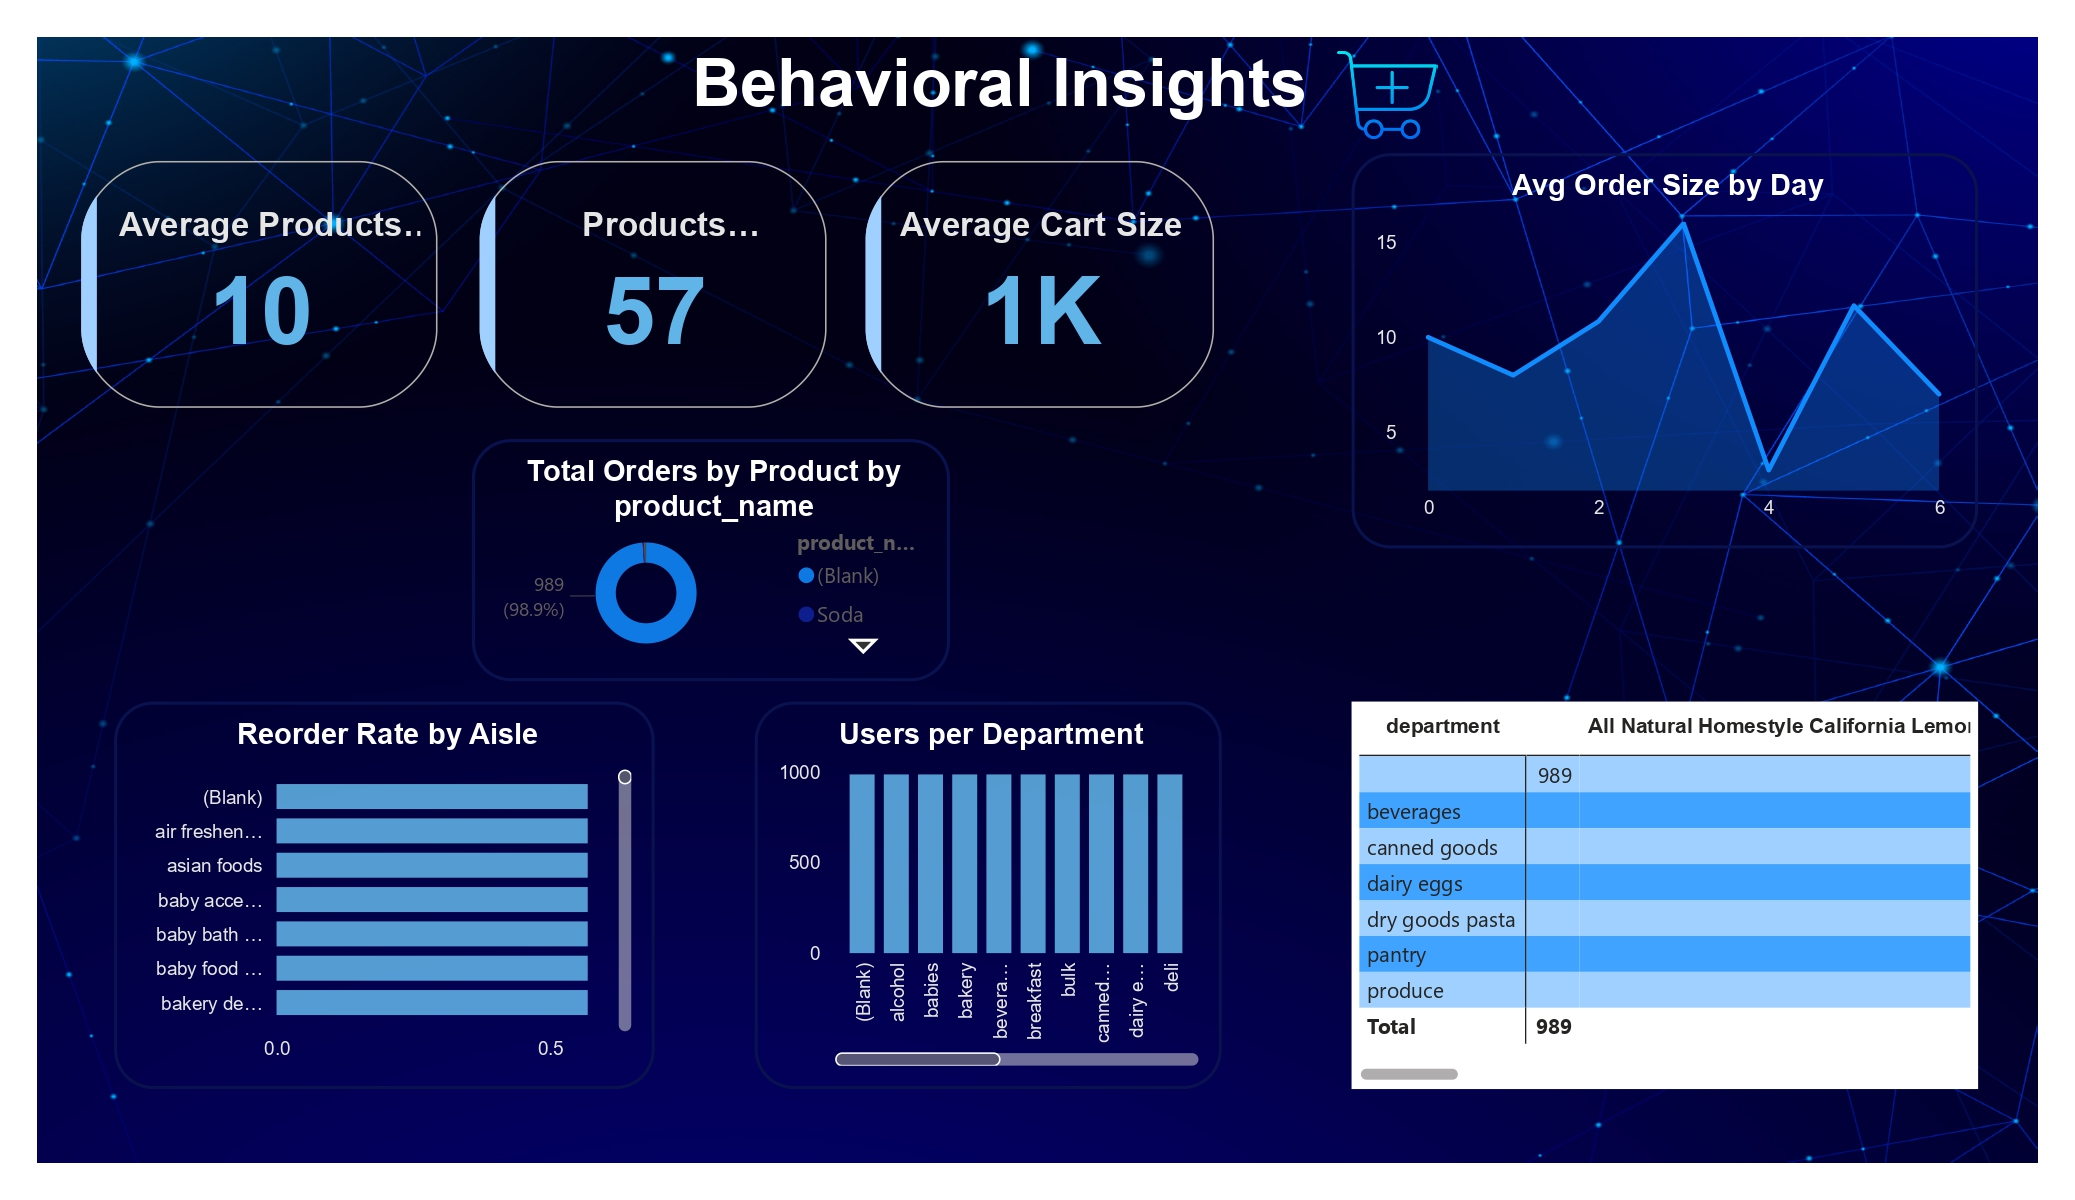

What the dashboard file says about the page in this screenshot:
{"tool":"powerbi","page":{"name":"Behavioral Insights","canvas":[1280,720],"ordinal":2},"visuals":[{"type":"donutChart","fields":{"Category":["Products.product_name"],"Y":["Order_Products_Train.Total Orders by Product"]},"box":[277.8,257,306.1,155],"z":0},{"type":"columnChart","title":"Users per Department ","fields":{"Y":["Orders.Users per Department"],"Category":["Departments.department"]},"box":[459.2,425.2,298.6,247.6],"z":1000},{"type":"pivotTable","fields":{"Rows":["Departments.department"],"Columns":["Products.product_name"],"Values":["CountNonNull(Order_Products_Train.reordered)"]},"box":[841,425.2,400.6,247.6],"z":2000},{"type":"barChart","title":"Reorder Rate by Aisle ","fields":{"Category":["Asiles.aisle"],"Y":["Order_Products_Train.Reorder Rate by Aisle"]},"box":[49.1,425.2,345.8,247.6],"z":3000},{"type":"cardVisual","fields":{"Data":["Order_Products_Train.Average Products per Order"]},"box":[22.7,73.7,238.1,168.2],"z":4000},{"type":"cardVisual","fields":{"Data":["Order_Products_Train.Products Reordered More Than Once"]},"box":[277.8,73.7,232.4,168.2],"z":5000},{"type":"cardVisual","fields":{"Data":["Order_Products_Train.Average Cart Size"]},"box":[525.4,73.7,232.4,168.2],"z":6000},{"type":"lineChart","title":"Avg Order Size by Day","fields":{"Y":["Order_Products_Train.Avg Order Size by Day"],"Category":["Orders.order_dow"]},"box":[841,73.7,400.6,253.2],"z":7000},{"type":"textbox","box":[413.9,0,427.1,60.5],"z":8000},{"type":"image","box":[744.6,0,238.1,73.7],"z":9000}]}

Visuals, with their boxes in screenshot pixels (x1, y1, x2, y2):
donutChart - Products.product_name x Order_Products_Train.Total Orders by Product: bbox=(472, 439, 950, 681)
"Users per Department " columnChart: bbox=(755, 702, 1222, 1089)
pivotTable - Departments.department x Products.product_name: bbox=(1352, 702, 1977, 1089)
"Reorder Rate by Aisle " barChart: bbox=(114, 702, 655, 1089)
cardVisual - Order_Products_Train.Average Products per Order: bbox=(73, 153, 445, 415)
cardVisual - Order_Products_Train.Products Reordered More Than Once: bbox=(472, 153, 835, 415)
cardVisual - Order_Products_Train.Average Cart Size: bbox=(858, 153, 1222, 415)
"Avg Order Size by Day" lineChart: bbox=(1352, 153, 1977, 548)
textbox: bbox=(684, 38, 1352, 132)
image: bbox=(1201, 38, 1573, 153)
